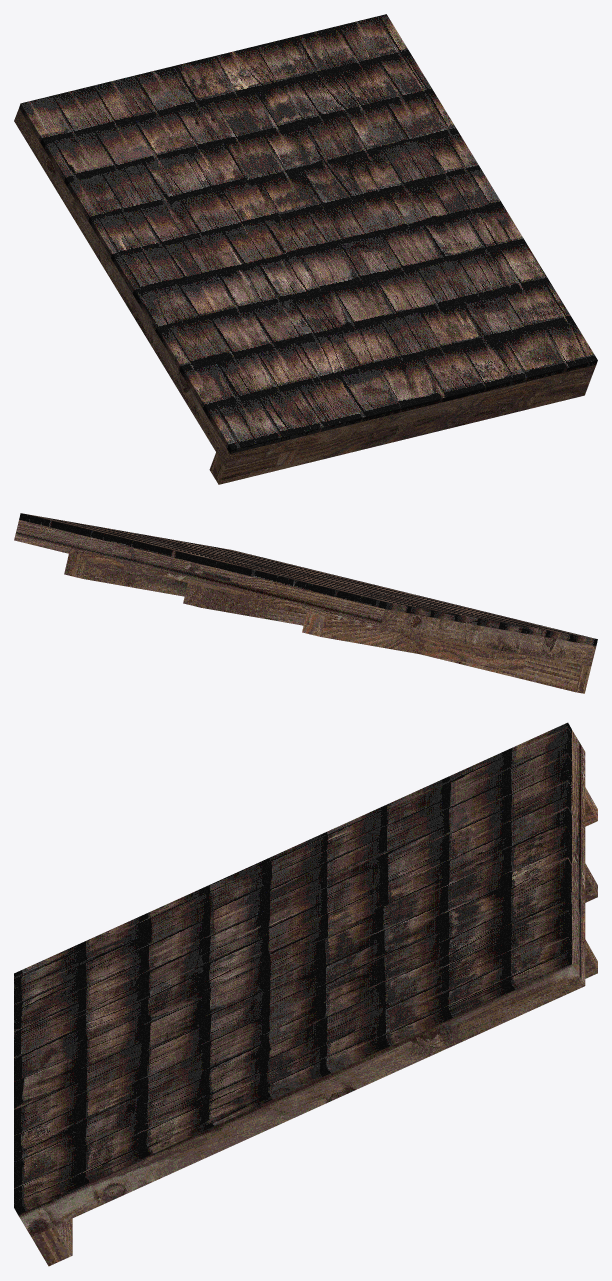
Rendered from roof-midM.glb.
3 views of the same model, one above another, from view 1: azimuth 30°, elevation 25°; view 2: azimuth 150°, elevation 25°; view 3: azimuth 270°, elevation 25° (orthographic). The views are drawn at different scales.
Visible parts, largest first — view 1: roof-midM.001; view 2: roof-midM.001; view 3: roof-midM.001.
Boxes of the visible parts, x1,y1,x2,y2 form: roof-midM.001: (14,14,597,484); roof-midM.001: (14,513,597,693); roof-midM.001: (14,722,597,1266).
Bounding box in the file's own units: 2 × 1.23 × 2.11.
2 materials, 2 textured.
